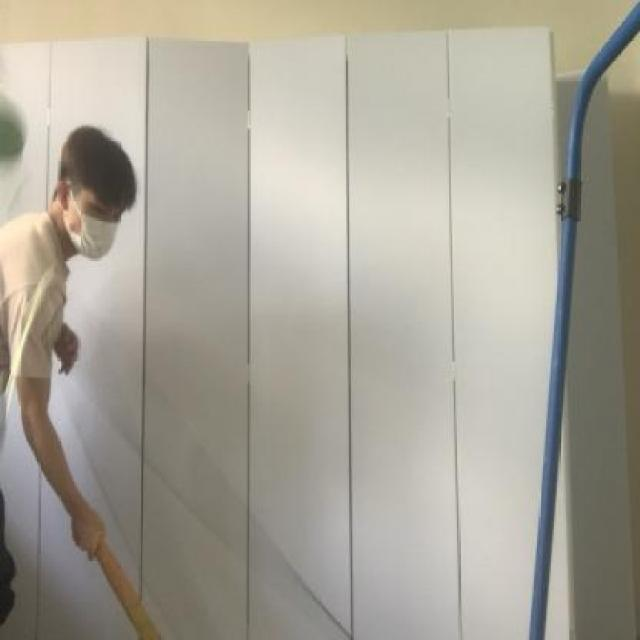baseball: (0, 91, 37, 164)
